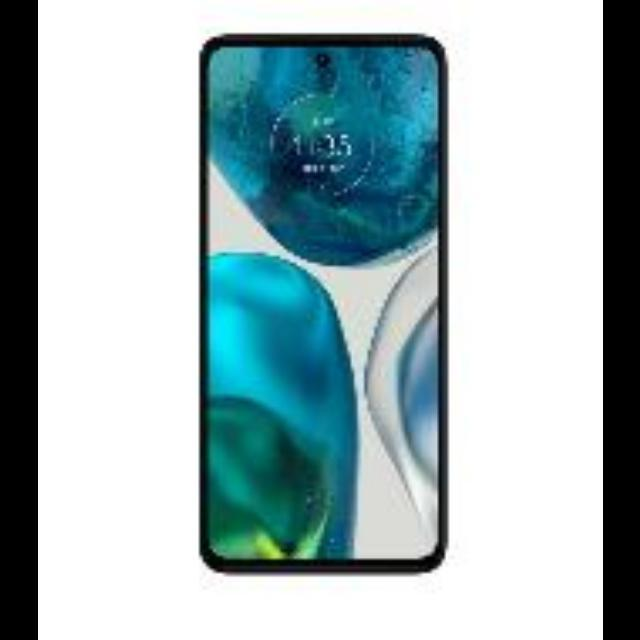PhoneUse: (198, 39, 448, 574)
